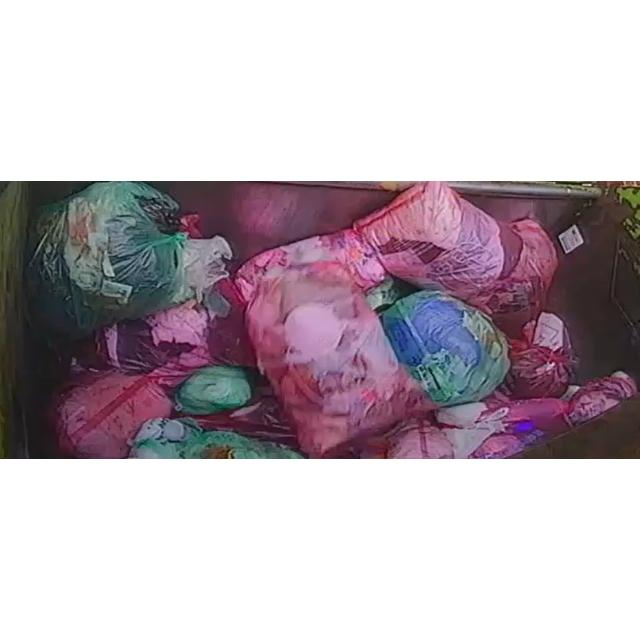general_trashbag: (30, 182, 190, 339), (382, 290, 510, 406), (129, 417, 302, 459), (176, 366, 251, 415)
other_trashbag: (246, 277, 432, 454), (350, 181, 558, 324), (234, 230, 385, 309), (56, 371, 172, 458), (98, 300, 215, 385), (506, 312, 578, 398), (388, 420, 454, 458)
